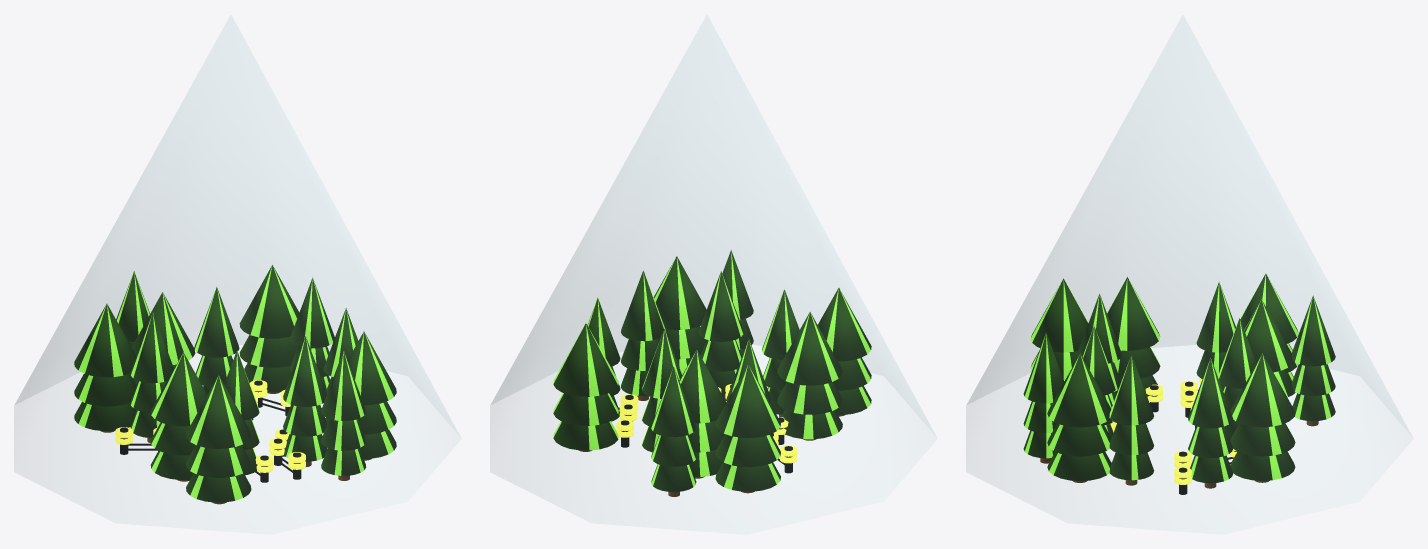
Rendered from park1.glb.
3 renders of one model, left to right at view 1: azimuth 30°, elevation 25°; view 2: azimuth 150°, elevation 25°; view 3: azimuth 270°, elevation 25°, orthographic.
Parts seen in each view (by area): view 1: Forest Large; view 2: Forest Large; view 3: Forest Large.
Boxes of the visible parts, x1,y1,x2,y2 form: Forest Large: [14, 15, 460, 534]; Forest Large: [490, 15, 936, 534]; Forest Large: [966, 15, 1412, 534].
Size of the model in its own units: 118 by 122 by 116.
